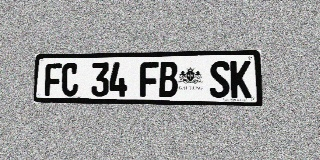3: (91, 62, 109, 97)
4: (109, 62, 127, 97)
B: (159, 62, 178, 97)
C: (61, 63, 79, 96)
F: (140, 62, 158, 97), (45, 63, 62, 96)
K: (230, 61, 251, 98)
S: (210, 61, 230, 98)
